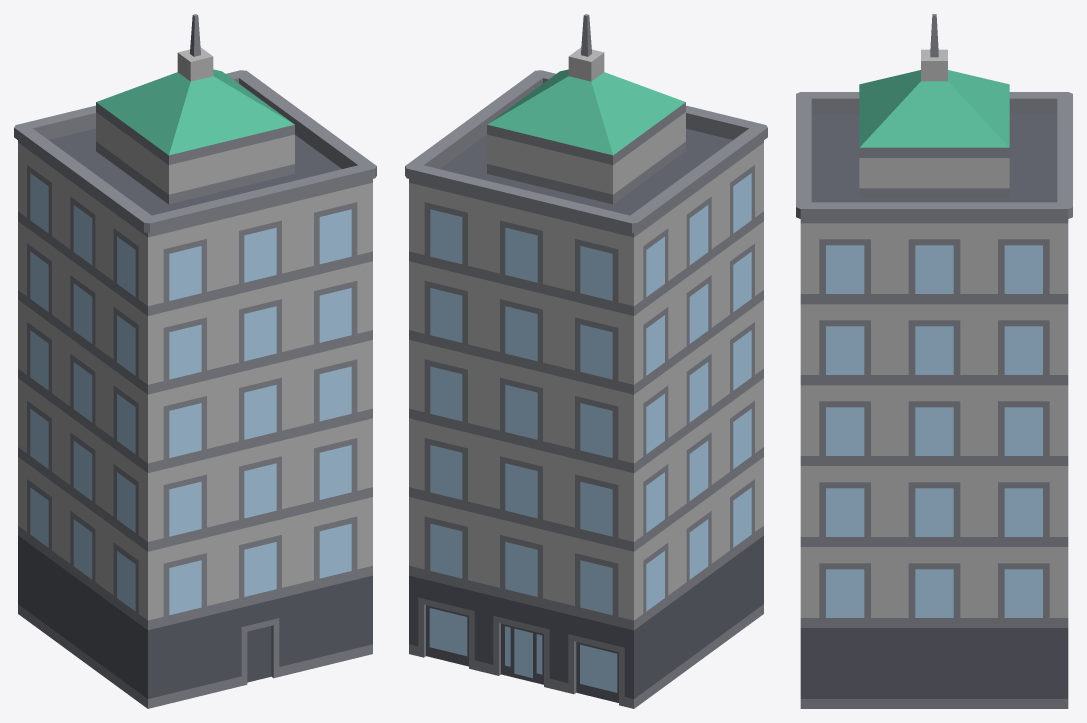
Rendered from skyscraperE.dae.
3 views of the same model, side by side, from view 1: azimuth 30°, elevation 25°; view 2: azimuth 150°, elevation 25°; view 3: azimuth 270°, elevation 25° (orthographic). The views are drawn at different scales.
Parts seen in each view (by area): view 1: skyscraperE; view 2: skyscraperE; view 3: skyscraperE.
Boxes of the visible parts, x1,y1,x2,y2 form: skyscraperE: (14,14,376,708); skyscraperE: (405,14,767,708); skyscraperE: (796,14,1072,708).
Bounding box in the file's own units: 1.24 × 3.15 × 1.24.
